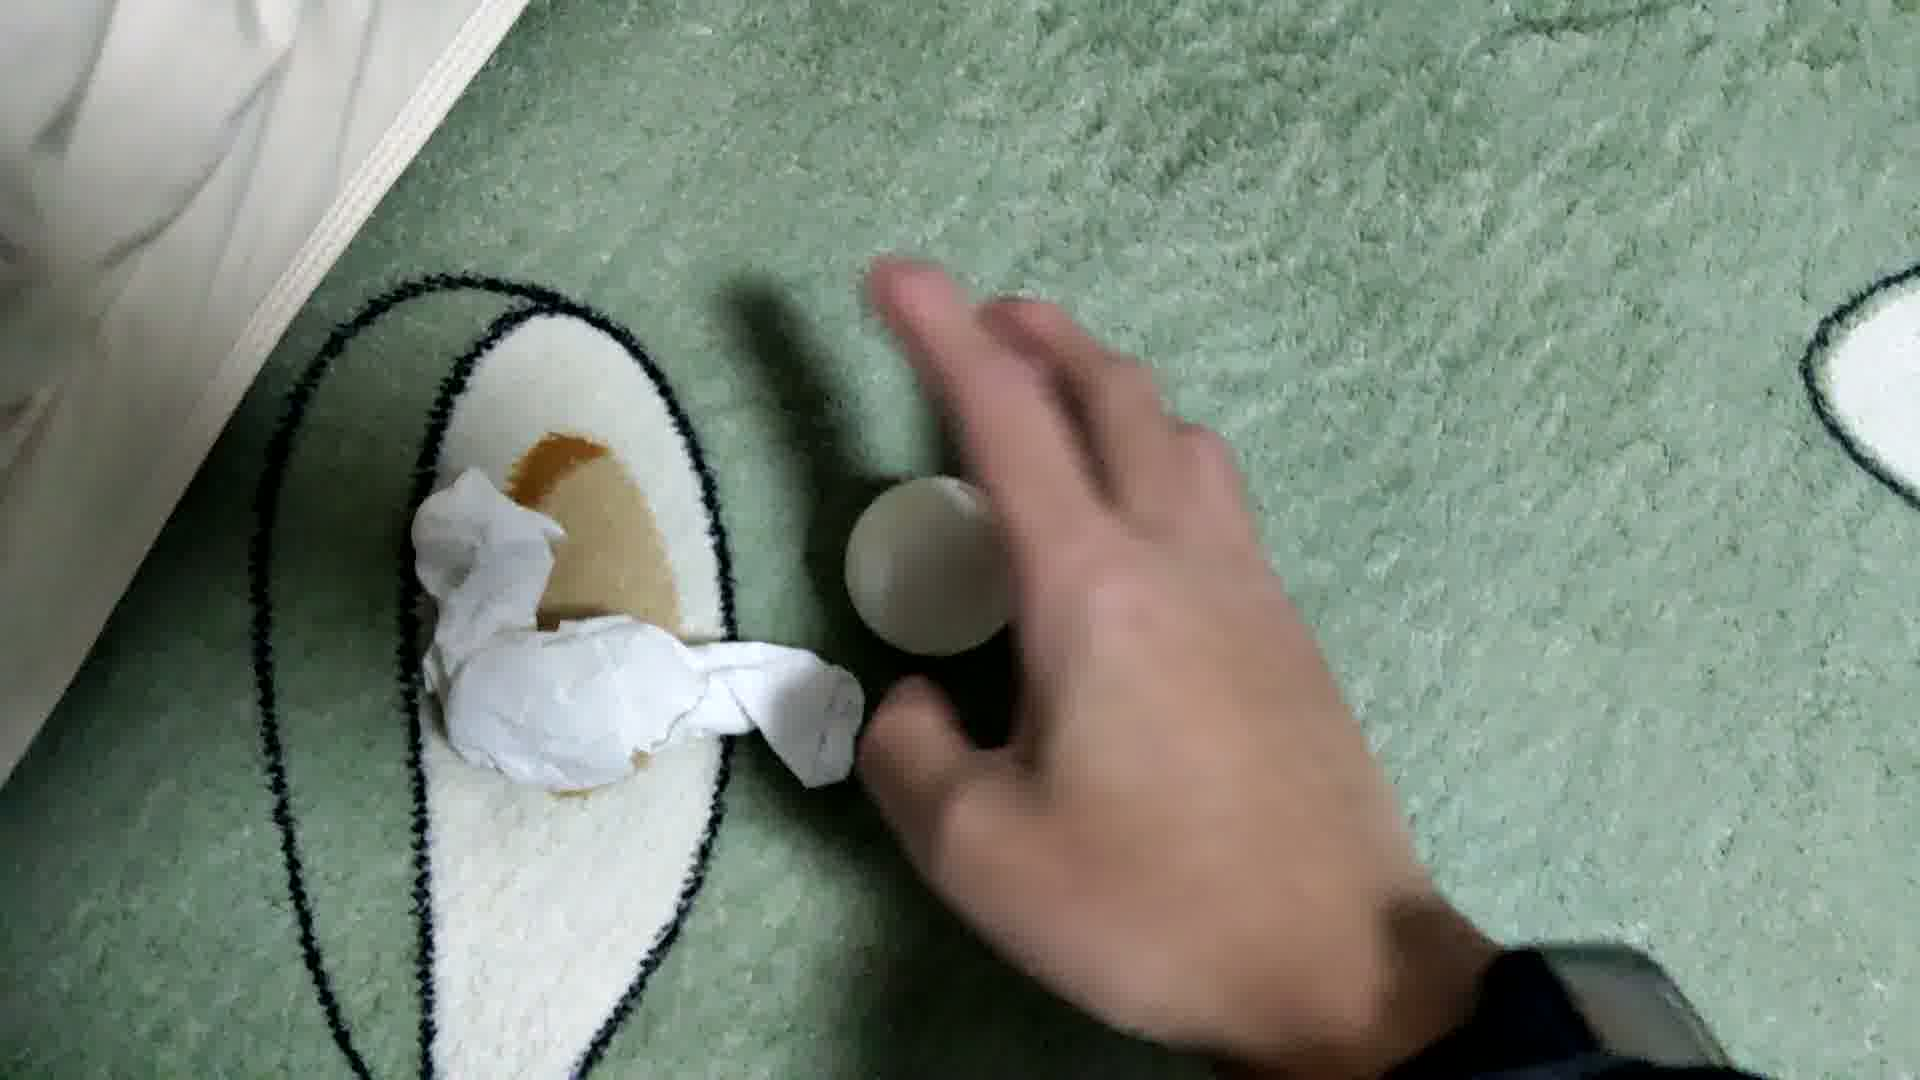Ball: (843, 473, 1027, 658)
